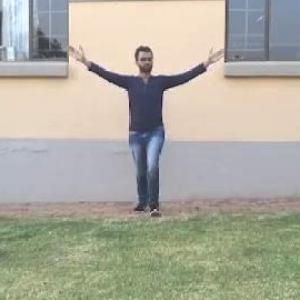takeoff: (77, 40, 232, 207)
